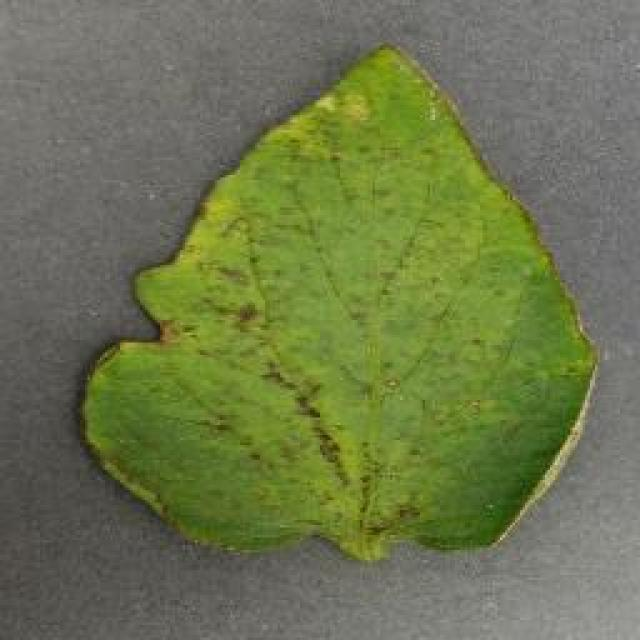Tomato___Bacterial_spot: (80, 44, 604, 564)
